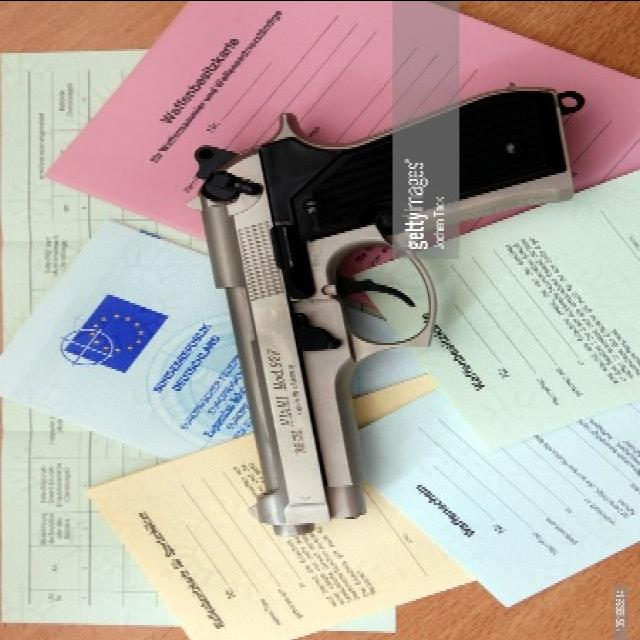handgun: (199, 93, 589, 541)
